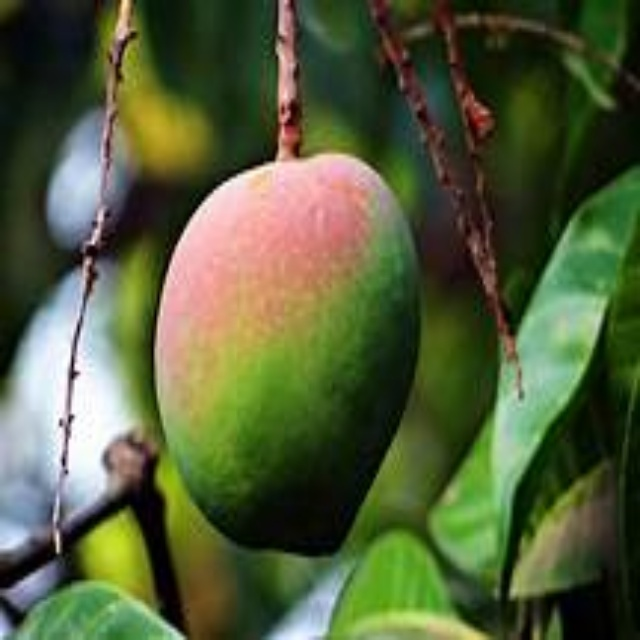mango: (155, 150, 414, 560)
